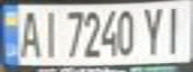0: (115, 6, 139, 56)
2: (81, 7, 103, 58)
4: (100, 7, 121, 57)
7: (60, 7, 84, 58)
A: (15, 7, 42, 58)
I: (160, 2, 190, 55), (36, 6, 60, 58)
Y: (139, 3, 169, 56)
